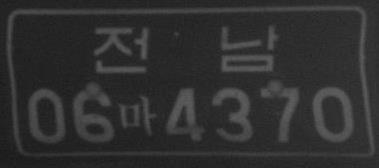0: (311, 85, 356, 144), (26, 88, 67, 145)
3: (211, 86, 255, 144)
4: (164, 86, 205, 142)
6: (72, 87, 115, 143)
7: (258, 85, 301, 144)
마: (117, 95, 157, 137)
전남_D: (93, 22, 279, 77)
